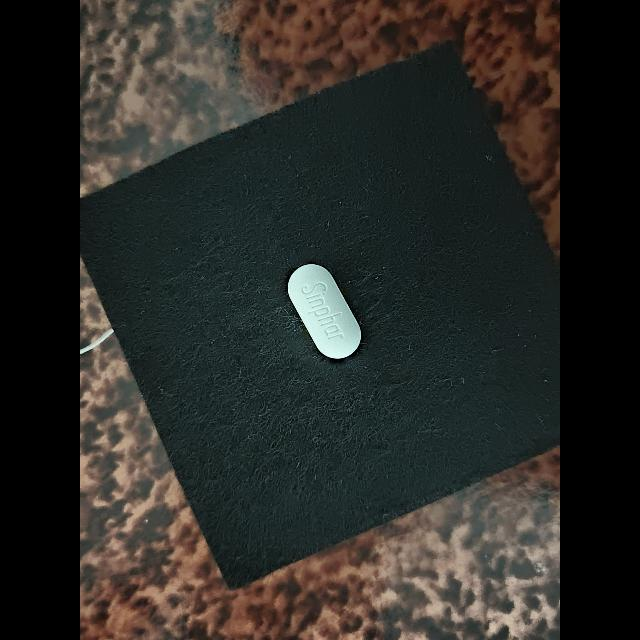Intact Pill: (287, 264, 361, 359)
